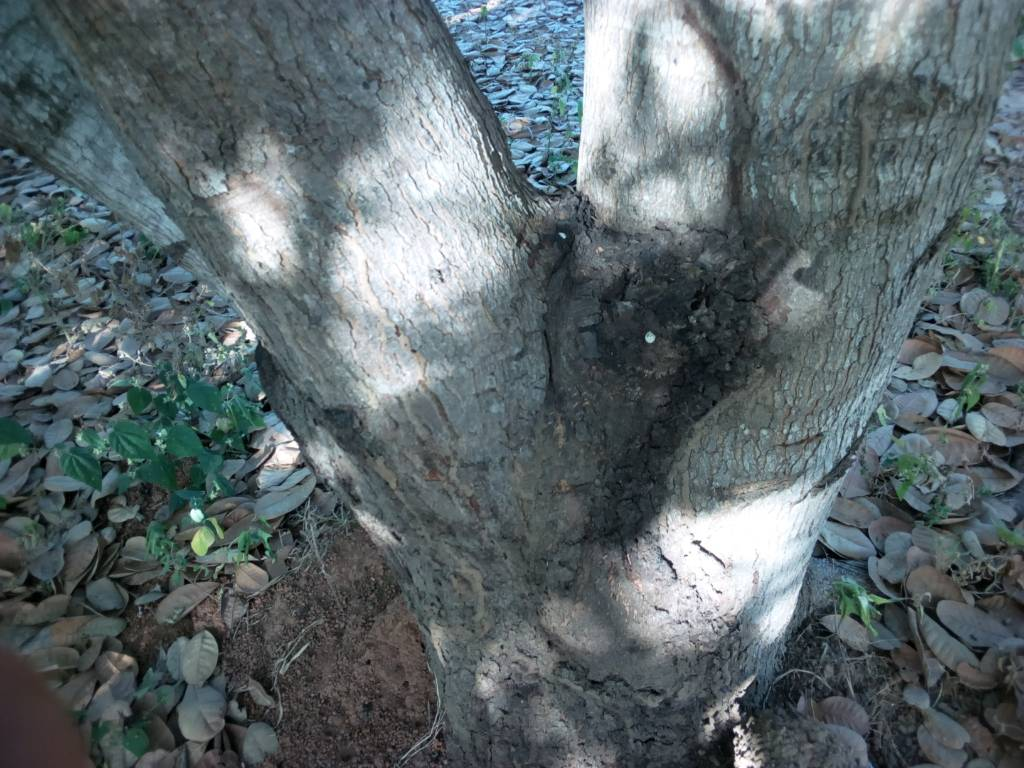Gommose: (597, 258, 760, 542)
